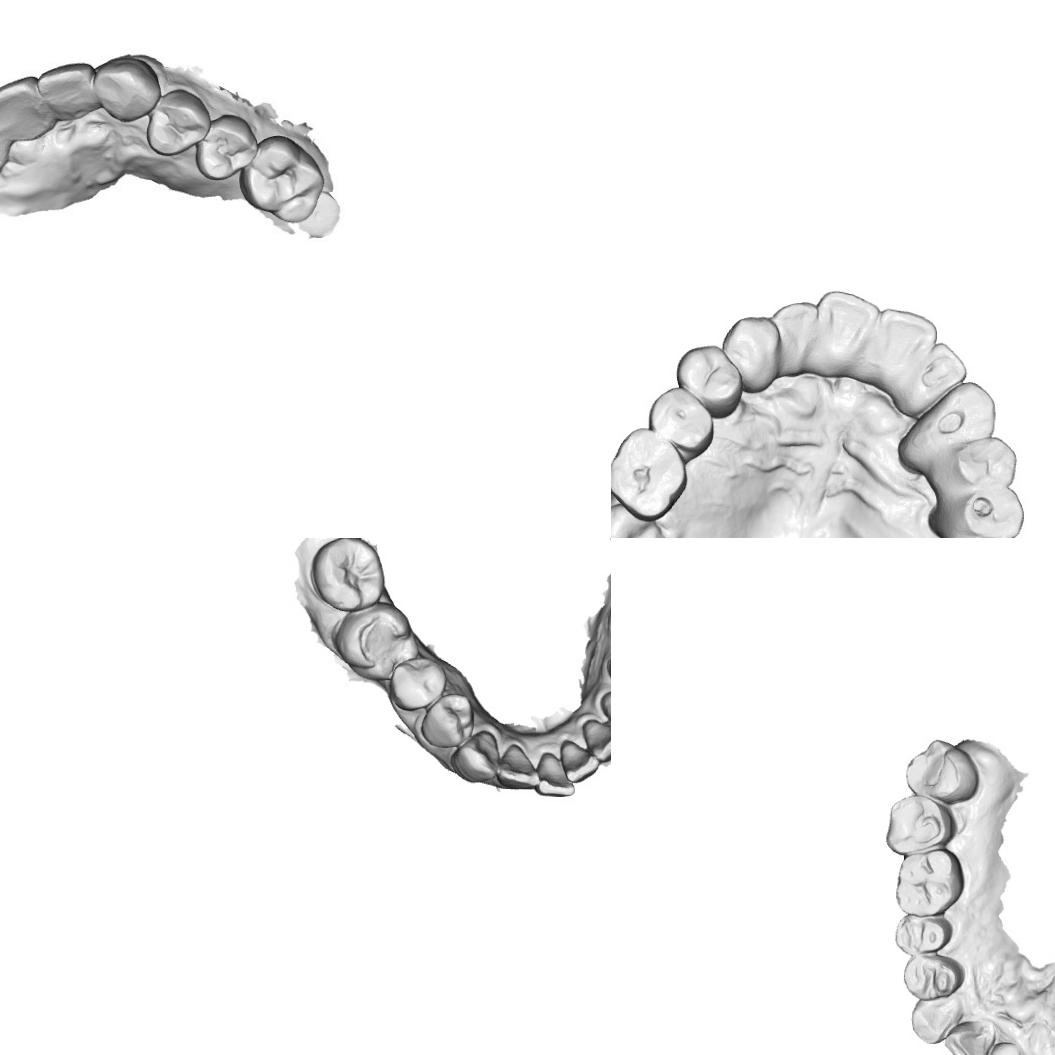canine: (913, 380, 997, 456), (720, 314, 782, 386), (97, 60, 161, 124), (448, 728, 503, 784), (910, 992, 963, 1046), (598, 688, 611, 736)
incisor: (814, 289, 880, 359), (865, 306, 939, 364), (42, 62, 108, 126), (771, 300, 818, 362), (916, 340, 968, 393), (0, 78, 46, 137), (494, 742, 542, 791), (533, 750, 578, 798), (558, 736, 602, 784), (942, 1017, 997, 1055), (580, 719, 611, 764), (962, 1039, 1024, 1055)
molar: (611, 424, 687, 521), (332, 600, 414, 683), (252, 139, 326, 220), (307, 538, 385, 612), (902, 736, 982, 805), (893, 846, 966, 918), (883, 793, 956, 858)
premolar: (672, 342, 745, 418), (933, 482, 1027, 538), (934, 432, 1020, 490), (147, 81, 212, 156), (647, 386, 712, 455), (197, 115, 257, 180), (386, 654, 448, 714), (418, 693, 476, 750), (901, 954, 966, 1000), (893, 914, 954, 956)
